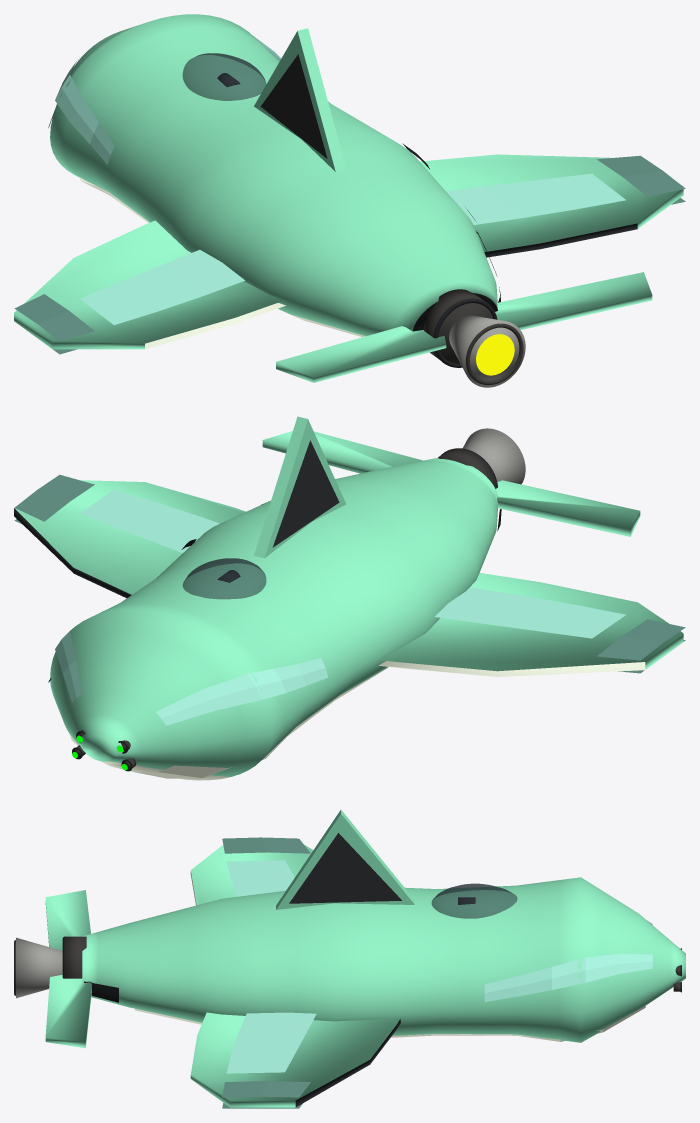
File: Ship_Orca_687341.glb
3 renders of one model, top to bottom at view 1: azimuth 30°, elevation 25°; view 2: azimuth 150°, elevation 25°; view 3: azimuth 270°, elevation 25°, orthographic. The views are drawn at different scales.
Visible parts, largest first — view 1: Fuselage_OrcaCountershadedHull, PectoralFin_Left_AerofoilWingFin, PectoralFin_Right_AerofoilWingFin, PectoralFinPaint_Left_BroadSimplePanelTop, PectoralFinPaint_Right_BroadSimplePanelTop, TailFluke_Left_SweptAftStabilizer, TailFluke_Right_SweptAftStabilizer, DorsalFin_MainSweptKeel, CanopyGlass_LowInsetDome, DorsalFinTrimPatch_LeftFace, EngineBell_MainLargeBurnishedNozzle, PaintEyePatch_Left_ForwardWhiteComma (+6 smaller); view 2: Fuselage_OrcaCountershadedHull, PectoralFin_Left_AerofoilWingFin, PectoralFin_Right_AerofoilWingFin, PectoralFinPaint_Left_BroadSimplePanelTop, PaintEyePatch_Left_ForwardWhiteComma, PectoralFinPaint_Right_BroadSimplePanelTop, TailFluke_Left_SweptAftStabilizer, DorsalFin_MainSweptKeel, DorsalFinTrimPatch_LeftFace, CanopyGlass_LowInsetDome, TailFluke_Right_SweptAftStabilizer, EngineBell_MainLargeBurnishedNozzle (+5 smaller); view 3: Fuselage_OrcaCountershadedHull, PectoralFin_Right_AerofoilWingFin, DorsalFinTrimPatch_RightFace, PectoralFinPaint_Right_BroadSimplePanelTop, PaintEyePatch_Right_ForwardWhiteComma, DorsalFin_MainSweptKeel, TailFluke_Right_SweptAftStabilizer, PectoralFin_Left_AerofoilWingFin, CanopyGlass_LowInsetDome, EngineBell_MainLargeBurnishedNozzle, TailFluke_Left_SweptAftStabilizer, PectoralFinPaint_Left_BroadSimplePanelTop (+4 smaller).
Part boxes in pixels (left/top/right/bottom): Fuselage_OrcaCountershadedHull: left=50, top=14, right=497, bottom=336; PectoralFin_Left_AerofoilWingFin: left=14, top=220, right=285, bottom=349; PectoralFin_Right_AerofoilWingFin: left=420, top=154, right=683, bottom=257; PectoralFinPaint_Left_BroadSimplePanelTop: left=80, top=249, right=244, bottom=325; PectoralFinPaint_Right_BroadSimplePanelTop: left=446, top=173, right=625, bottom=224; TailFluke_Left_SweptAftStabilizer: left=276, top=326, right=446, bottom=382; TailFluke_Right_SweptAftStabilizer: left=495, top=272, right=652, bottom=329; DorsalFin_MainSweptKeel: left=254, top=28, right=346, bottom=171; CanopyGlass_LowInsetDome: left=182, top=53, right=266, bottom=100; DorsalFinTrimPatch_LeftFace: left=260, top=54, right=327, bottom=158; EngineBell_MainLargeBurnishedNozzle: left=449, top=315, right=525, bottom=387; PaintEyePatch_Left_ForwardWhiteComma: left=55, top=57, right=114, bottom=164; Fuselage_OrcaCountershadedHull: left=50, top=458, right=497, bottom=780; PectoralFin_Left_AerofoilWingFin: left=379, top=573, right=683, bottom=676; PectoralFin_Right_AerofoilWingFin: left=14, top=480, right=245, bottom=598; PectoralFinPaint_Left_BroadSimplePanelTop: left=434, top=587, right=625, bottom=638; PaintEyePatch_Left_ForwardWhiteComma: left=156, top=658, right=328, bottom=725; PectoralFinPaint_Right_BroadSimplePanelTop: left=80, top=489, right=219, bottom=552; TailFluke_Left_SweptAftStabilizer: left=495, top=480, right=640, bottom=536; DorsalFin_MainSweptKeel: left=254, top=416, right=346, bottom=558; DorsalFinTrimPatch_LeftFace: left=272, top=440, right=339, bottom=547; CanopyGlass_LowInsetDome: left=182, top=558, right=266, bottom=599; TailFluke_Right_SweptAftStabilizer: left=262, top=431, right=422, bottom=473; EngineBell_MainLargeBurnishedNozzle: left=462, top=428, right=525, bottom=484; Fuselage_OrcaCountershadedHull: left=82, top=877, right=685, bottom=1042; PectoralFin_Right_AerofoilWingFin: left=190, top=1012, right=400, bottom=1107; DorsalFinTrimPatch_RightFace: left=289, top=833, right=401, bottom=903; PectoralFinPaint_Right_BroadSimplePanelTop: left=226, top=1012, right=316, bottom=1073; PaintEyePatch_Right_ForwardWhiteComma: left=484, top=953, right=652, bottom=1001; DorsalFin_MainSweptKeel: left=276, top=810, right=414, bottom=909; TailFluke_Right_SweptAftStabilizer: left=45, top=975, right=92, bottom=1048; PectoralFin_Left_AerofoilWingFin: left=190, top=844, right=313, bottom=905; CanopyGlass_LowInsetDome: left=431, top=883, right=517, bottom=918; EngineBell_MainLargeBurnishedNozzle: left=16, top=937, right=62, bottom=998; TailFluke_Left_SweptAftStabilizer: left=45, top=890, right=90, bottom=950; PectoralFinPaint_Left_BroadSimplePanelTop: left=226, top=860, right=294, bottom=896.
Size of the model in its own units: 6.41 by 2.47 by 6.97.
